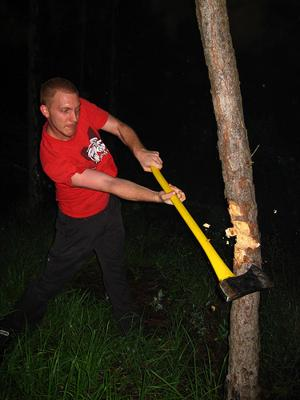person: (2, 78, 186, 345)
